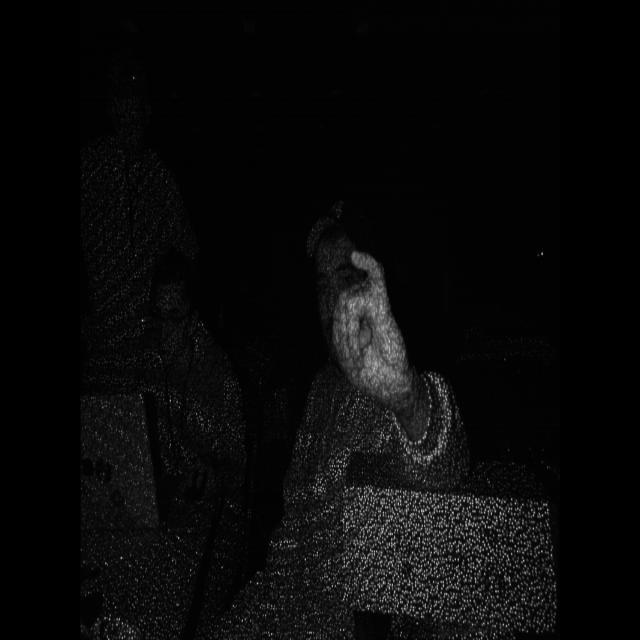D: (325, 232, 421, 428)
